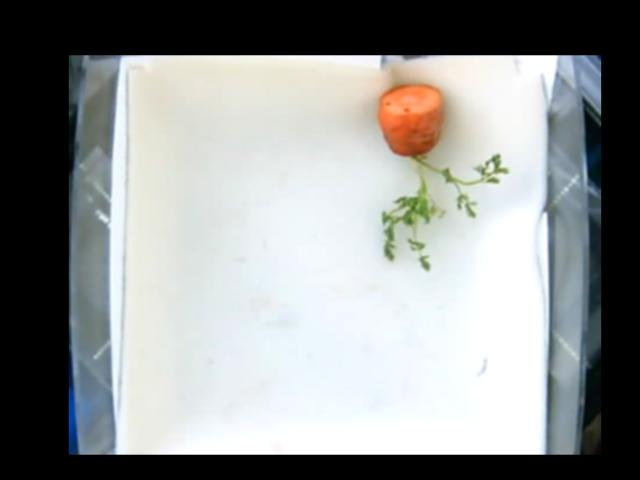Carrot: (379, 82, 509, 267)
